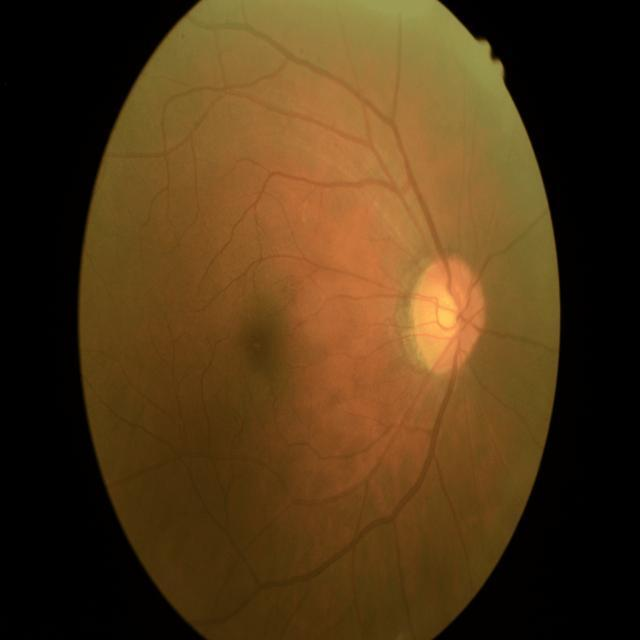cup: (434, 293, 460, 341)
disk: (411, 254, 487, 376)
